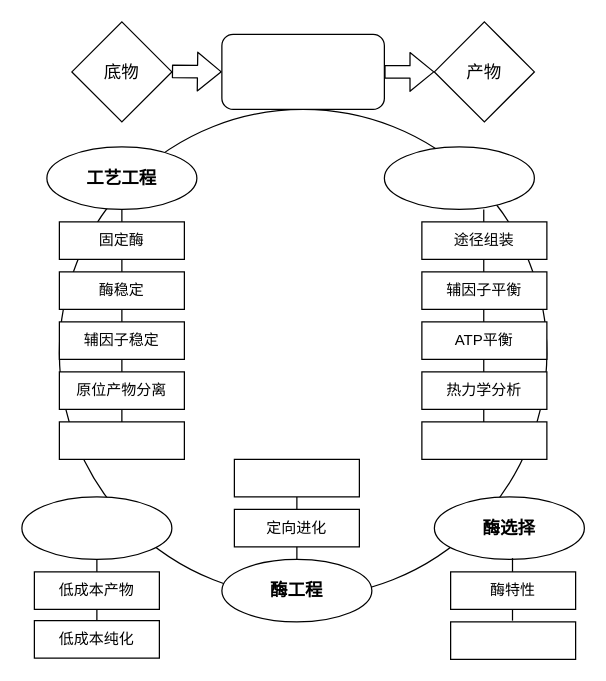
Some shapes in this 606 by 681 pixel diagram are drawn without their labels. The centre of each missing label's shape, as x and y in pixels:
一锅法或多重反应: the point at 121,440
体外途径重建: the point at 458,177
反应平衡: the point at 484,440
理性设计: the point at 296,477
酶产生: the point at 96,527
酶发现: the point at 512,640
非细胞合成体系: the point at 302,71
